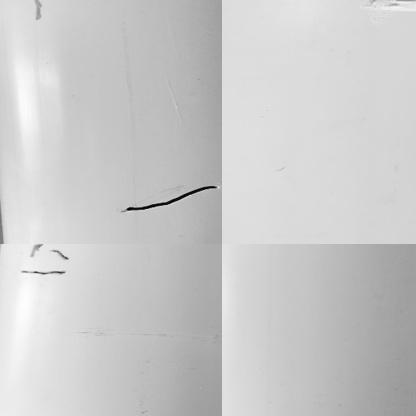fengxi: (115, 181, 221, 210), (14, 266, 71, 279), (364, 1, 415, 12), (49, 247, 77, 266)
sunshang: (29, 1, 45, 25), (30, 241, 43, 261)
